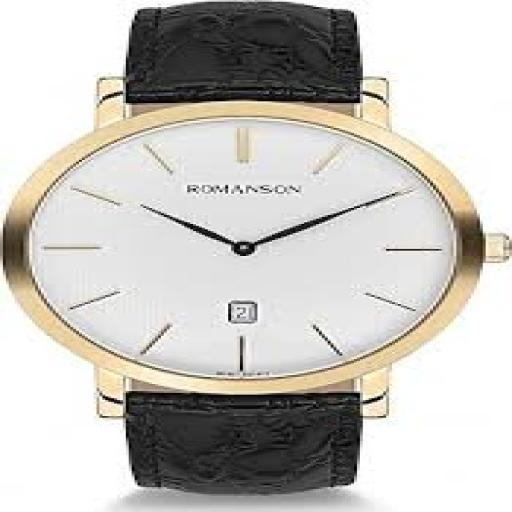KolSaati: (28, 0, 497, 502)
